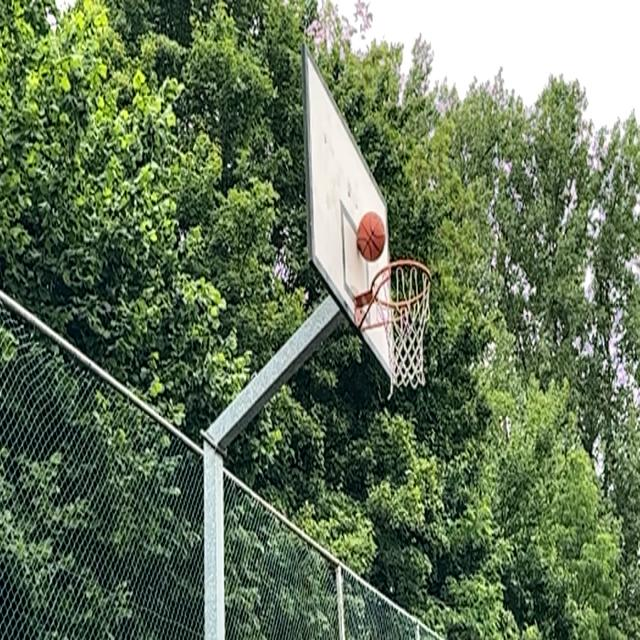rebound_hit: (356, 211, 385, 262)
